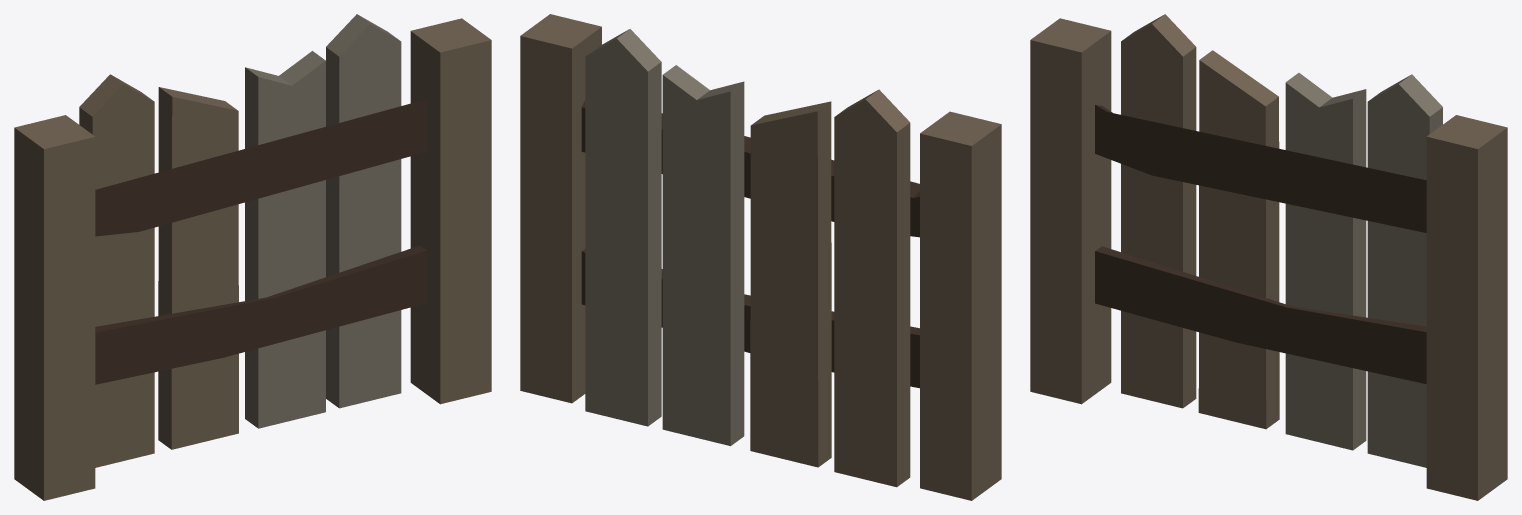
The model's file is FenceShort.glb.
The picture shows the model from 3 angles, left to right: view 1: azimuth 30°, elevation 25°; view 2: azimuth 150°, elevation 25°; view 3: azimuth 330°, elevation 25°; orthographic projection.
Visible parts, largest first — view 1: SM_Fence:SM_Fence1; view 2: SM_Fence:SM_Fence1; view 3: SM_Fence:SM_Fence1.
Part boxes in pixels (x1,y1,x2,y2): SM_Fence:SM_Fence1: [14, 14, 491, 500]; SM_Fence:SM_Fence1: [520, 14, 1001, 500]; SM_Fence:SM_Fence1: [1030, 14, 1507, 500].
Bounding box in the file's own units: 1.35 × 1.09 × 0.1804.
